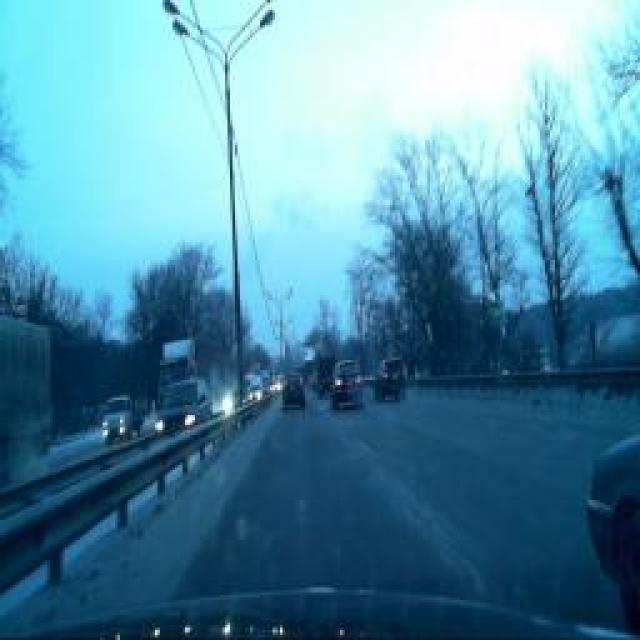sign: (385, 344, 395, 358)
